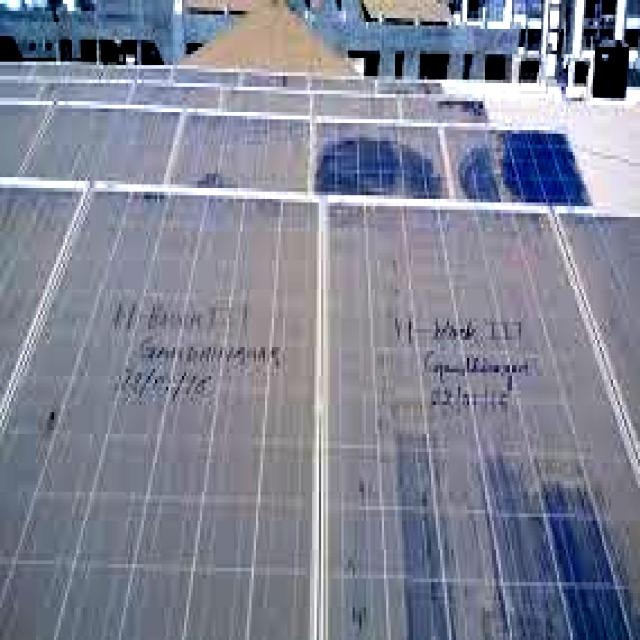dust: (52, 199, 180, 435), (189, 215, 313, 418), (188, 426, 310, 628), (59, 440, 177, 640), (330, 481, 440, 640), (336, 295, 416, 498), (451, 484, 547, 640), (0, 108, 165, 186), (424, 290, 480, 478), (0, 194, 42, 428), (568, 489, 634, 636), (466, 224, 558, 323), (522, 340, 582, 490), (309, 132, 436, 202), (0, 448, 42, 640), (338, 214, 450, 286), (180, 126, 298, 186), (443, 121, 524, 202), (588, 215, 640, 304)
